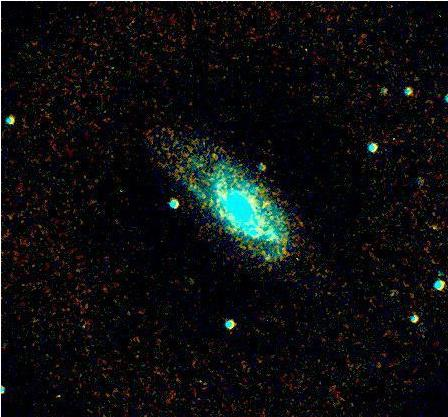star: (245, 243, 275, 273)
